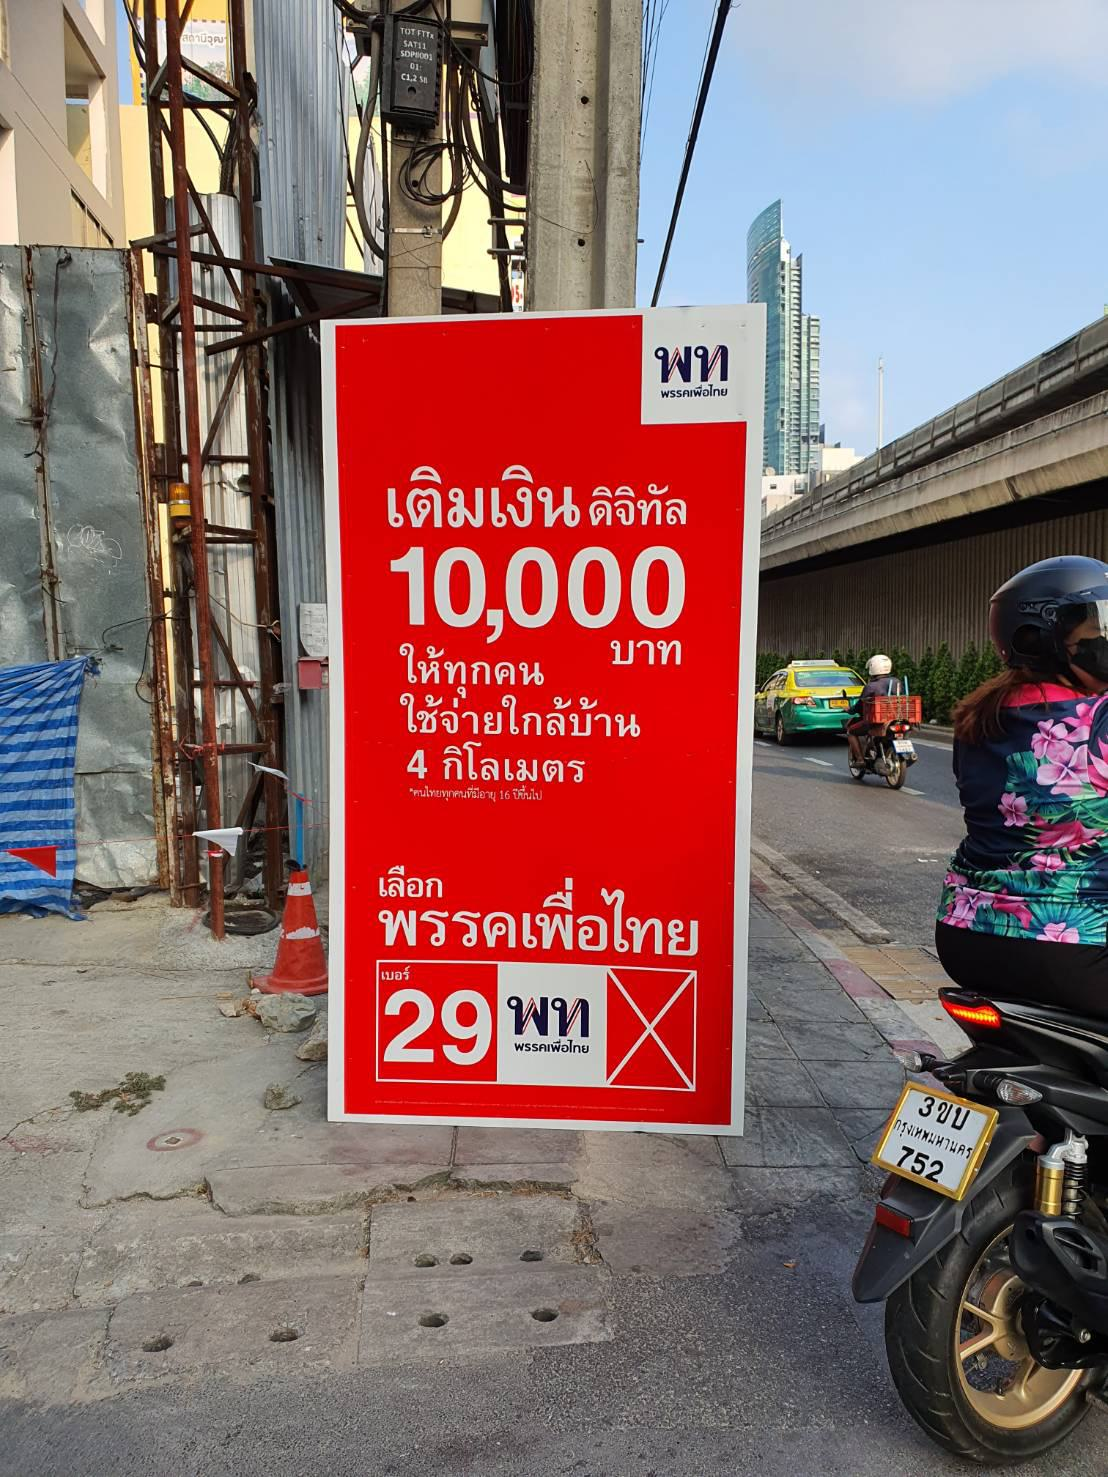Banner: (311, 314, 755, 1146)
